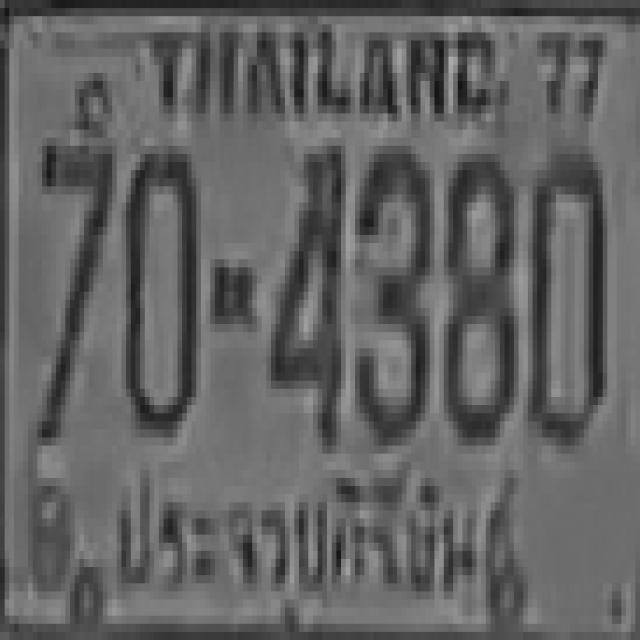0: (527, 149, 607, 440), (122, 146, 196, 429)
3: (353, 146, 432, 438)
4: (269, 139, 343, 438)
7: (37, 138, 112, 437)
8: (441, 150, 516, 441)
PrachuapKhiriKhan: (106, 461, 528, 605)
